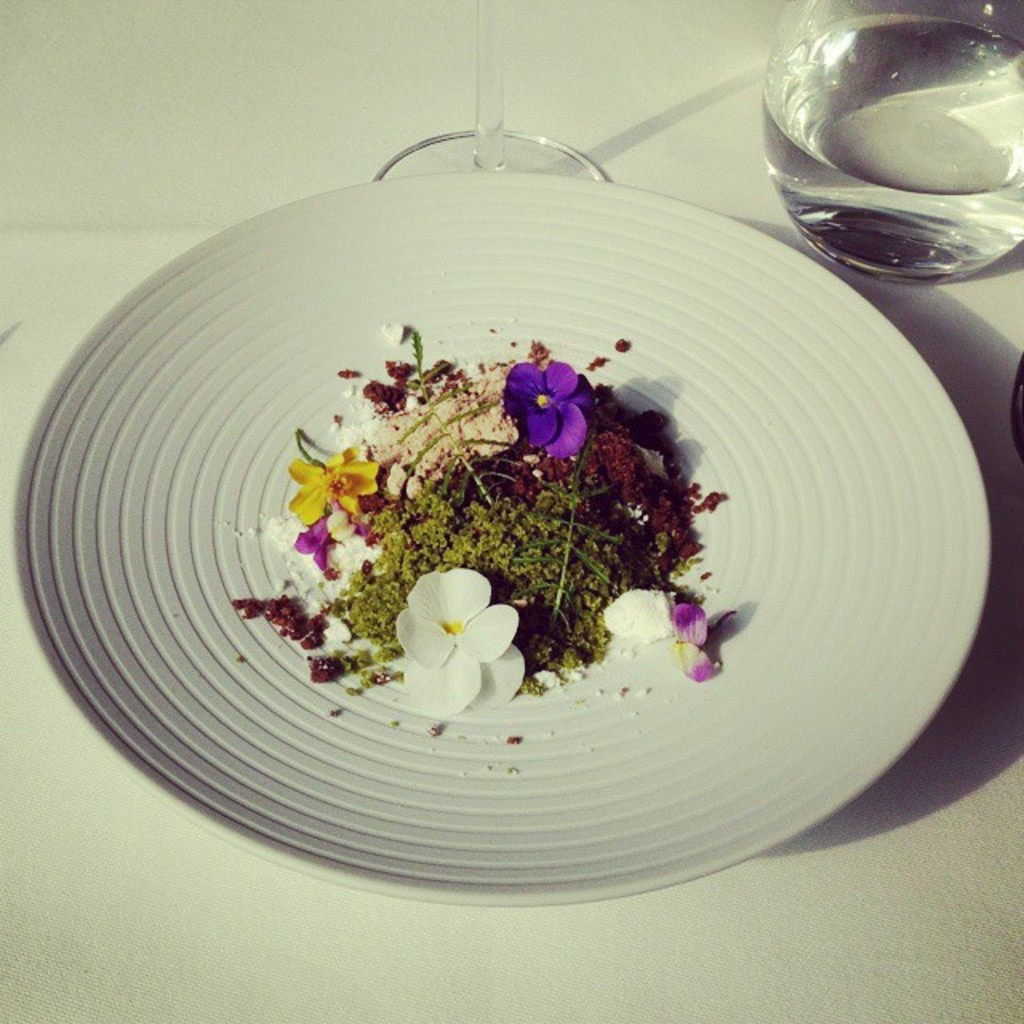plate: (14, 173, 989, 906)
